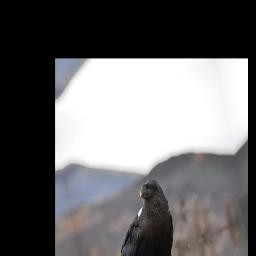Crow: (96, 171, 180, 256)
